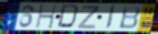6: (19, 5, 35, 28)
B: (118, 5, 142, 30)
D: (56, 4, 82, 30)
H: (35, 4, 58, 30)
I: (104, 5, 116, 30)
Z: (77, 5, 101, 30)
